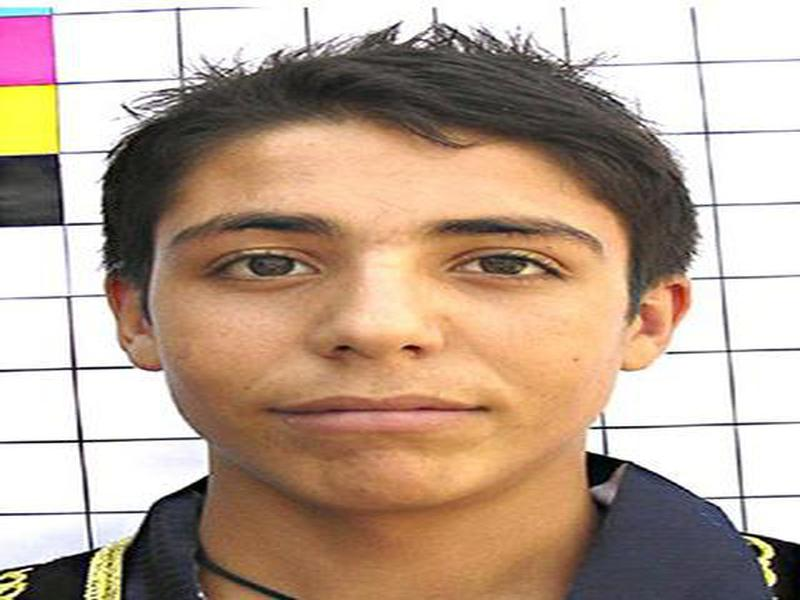without_mask: (149, 148, 617, 519)
